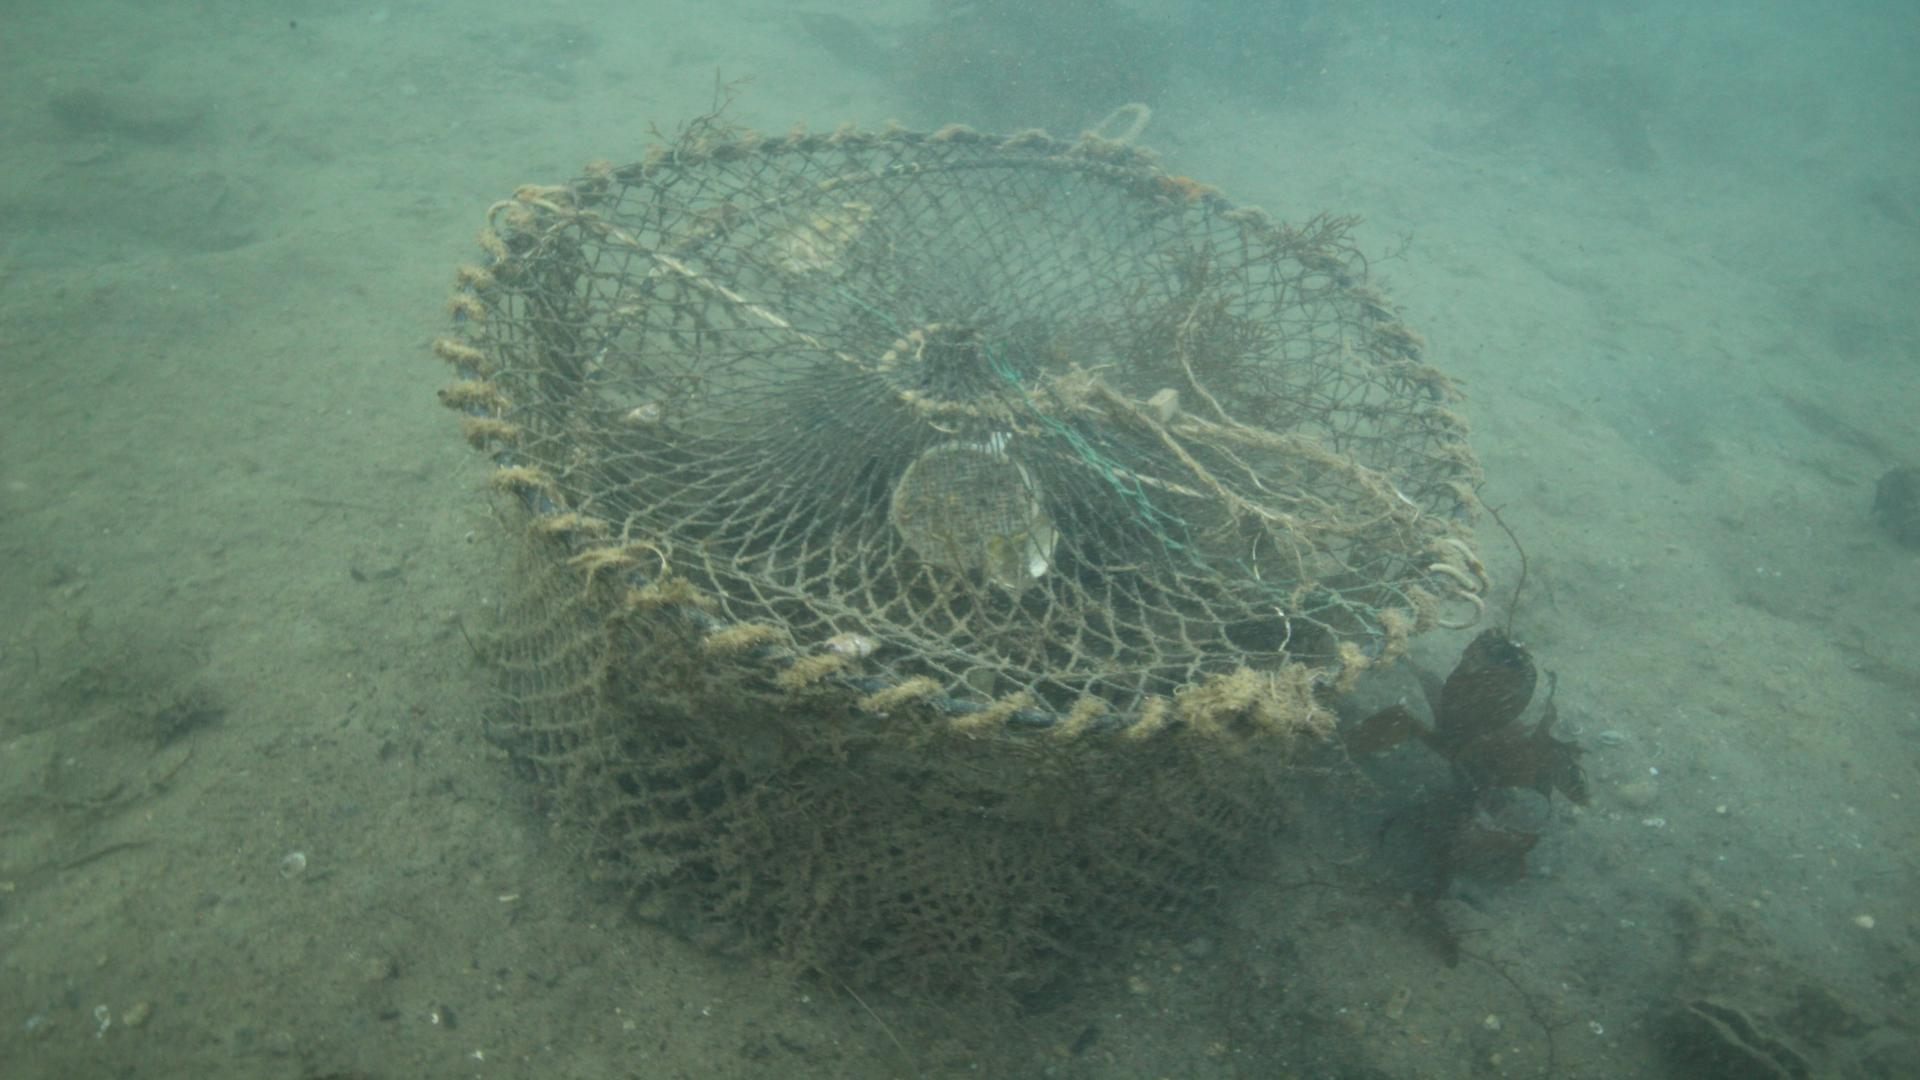circular fish trap: (433, 119, 1486, 998)
rope: (1083, 98, 1153, 144)
